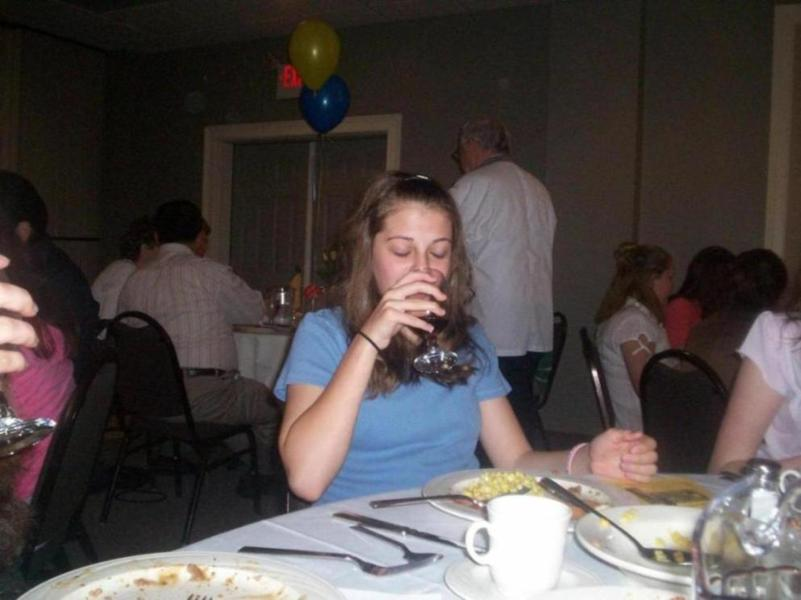person: (274, 168, 660, 508)
